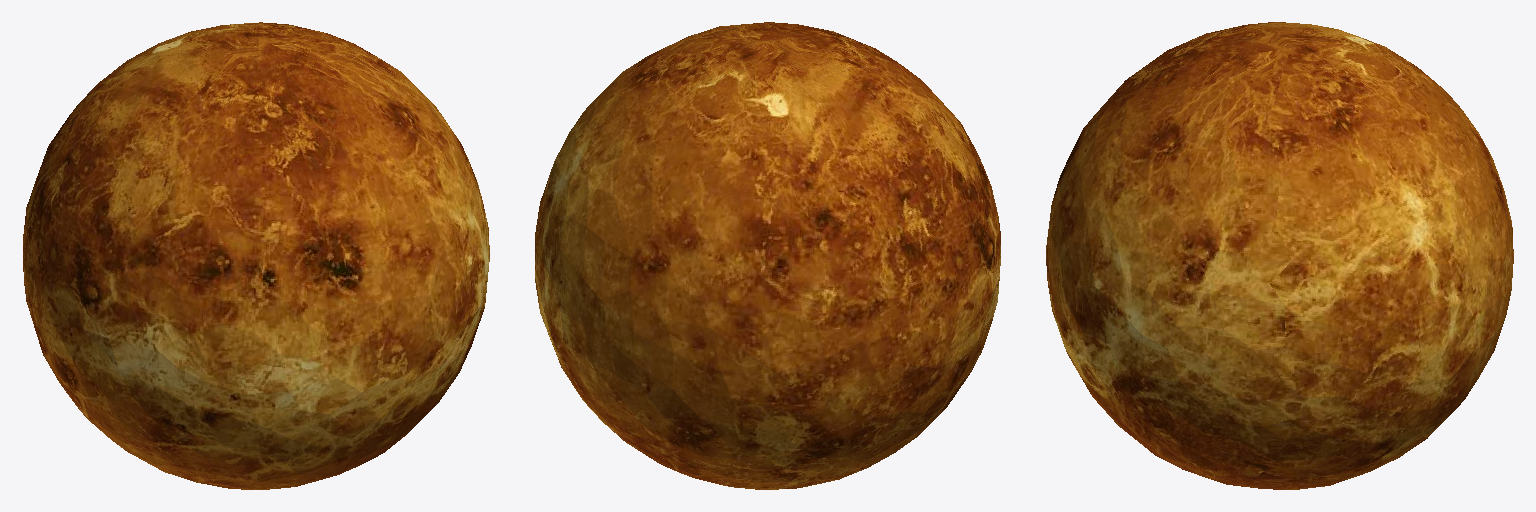
The picture shows the model from 3 angles: view 1: azimuth 30°, elevation 25°; view 2: azimuth 150°, elevation 25°; view 3: azimuth 270°, elevation 25°; orthographic projection.
Parts seen in each view (by area): view 1: Venus_Globe.011; view 2: Venus_Globe.011; view 3: Venus_Globe.011.
Boxes of the visible parts, <box> form: Venus_Globe.011: <box>23,22,489,489</box>; Venus_Globe.011: <box>535,22,1000,489</box>; Venus_Globe.011: <box>1046,22,1513,489</box>.
Bounding box in the file's own units: 24.25 × 24.25 × 24.25.
Materials: 1 (1 with a texture image).